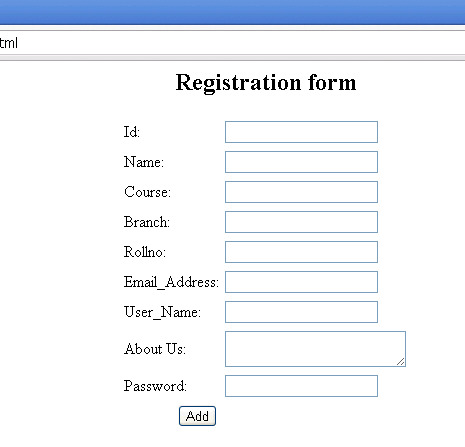_form_: (45, 27, 461, 443)
button: (177, 404, 220, 428)
field: (223, 330, 407, 369), (222, 238, 380, 265), (223, 373, 380, 399), (223, 300, 381, 325), (223, 269, 380, 294), (223, 150, 379, 175), (224, 120, 381, 144), (223, 180, 380, 204), (223, 210, 380, 234)
field_with_label: (124, 329, 408, 371), (120, 118, 384, 146), (120, 147, 384, 175), (119, 177, 383, 205), (119, 207, 383, 235), (118, 237, 382, 265), (119, 266, 383, 294), (120, 297, 384, 325), (118, 372, 382, 400)
